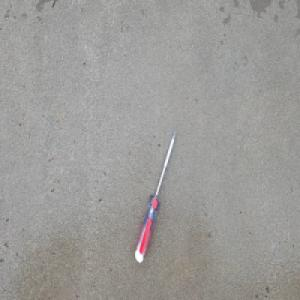Screwdriver: (133, 127, 177, 264)
